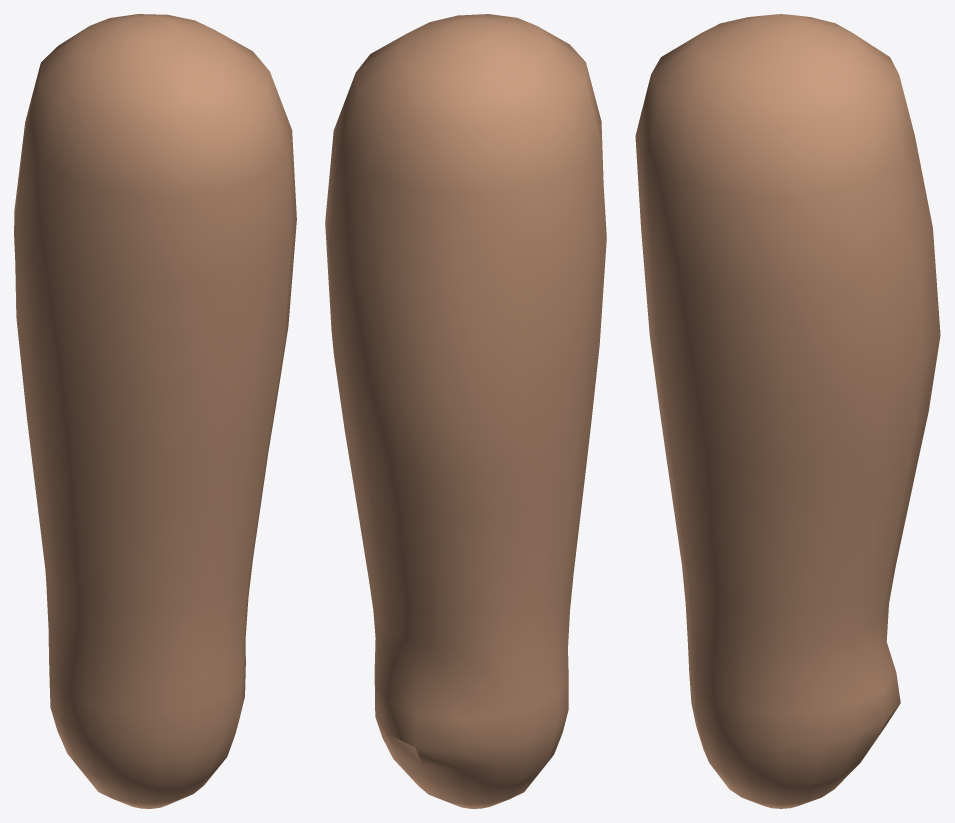
File: thigh_r.glb
3 renders of one model, left to right at view 1: azimuth 30°, elevation 25°; view 2: azimuth 150°, elevation 25°; view 3: azimuth 270°, elevation 25°, orthographic.
Visible parts, largest first — view 1: OUT; view 2: OUT; view 3: OUT.
Boxes of the visible parts, x1=… form: OUT: x1=14, y1=14, x2=296, y2=808; OUT: x1=325, y1=14, x2=606, y2=808; OUT: x1=635, y1=14, x2=940, y2=808.
Bounding box in the file's own units: 0.1689 × 0.504 × 0.1803.
